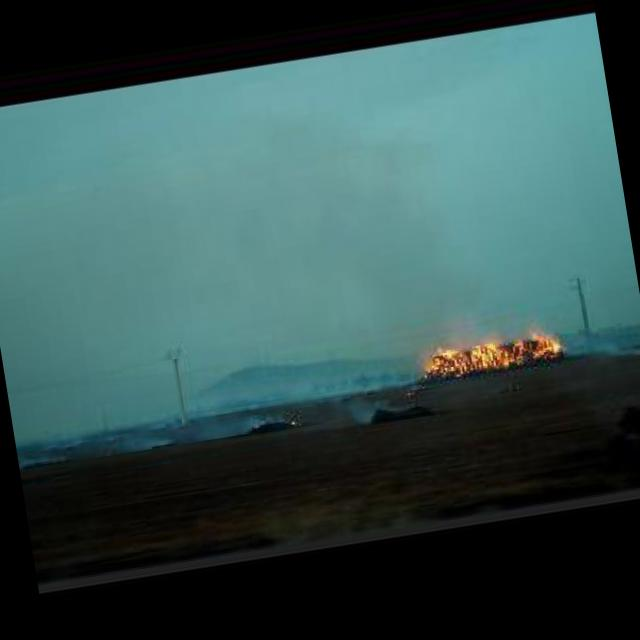fire: (418, 324, 562, 384)
